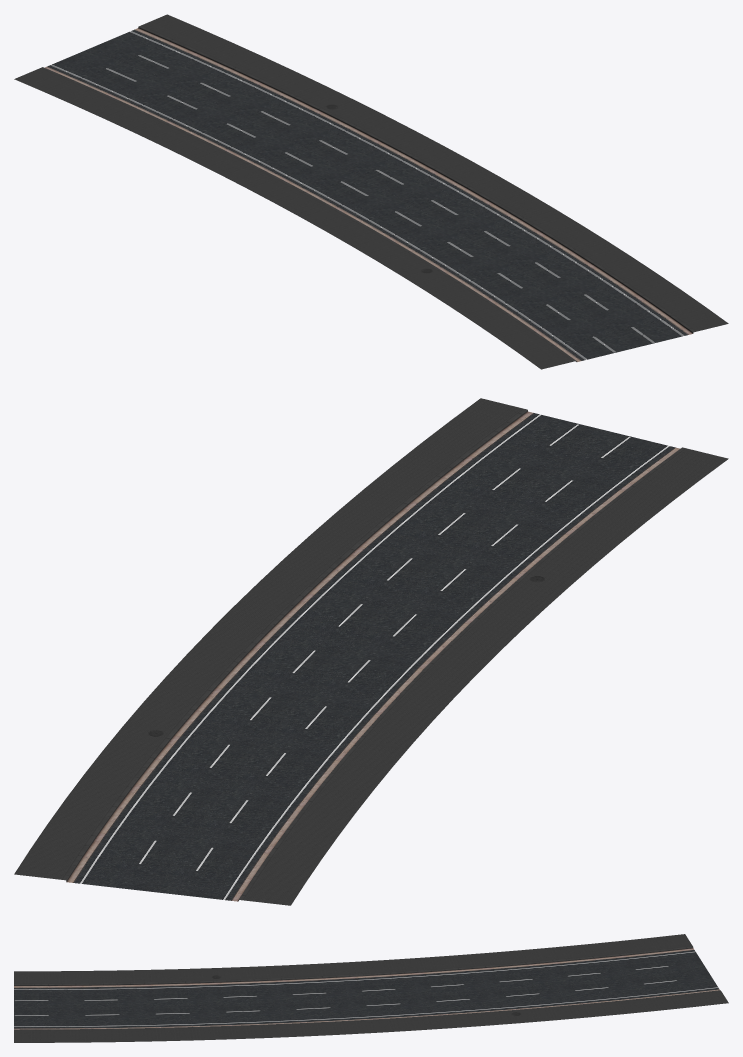
File: or_city_road_3ways_15left.fbx
3 renders of one model, top to bottom at view 1: azimuth 30°, elevation 25°; view 2: azimuth 150°, elevation 25°; view 3: azimuth 270°, elevation 25°, orthographic. The views are drawn at different scales.
Visible parts, largest first — view 1: obj0; view 2: obj0; view 3: obj0.
Part boxes in pixels (left/top/right/bottom): obj0: left=14, top=14, right=728, bottom=369; obj0: left=14, top=398, right=728, bottom=905; obj0: left=14, top=934, right=728, bottom=1042.
Size of the model in its own units: 56.04 by 0.254 by 155.
